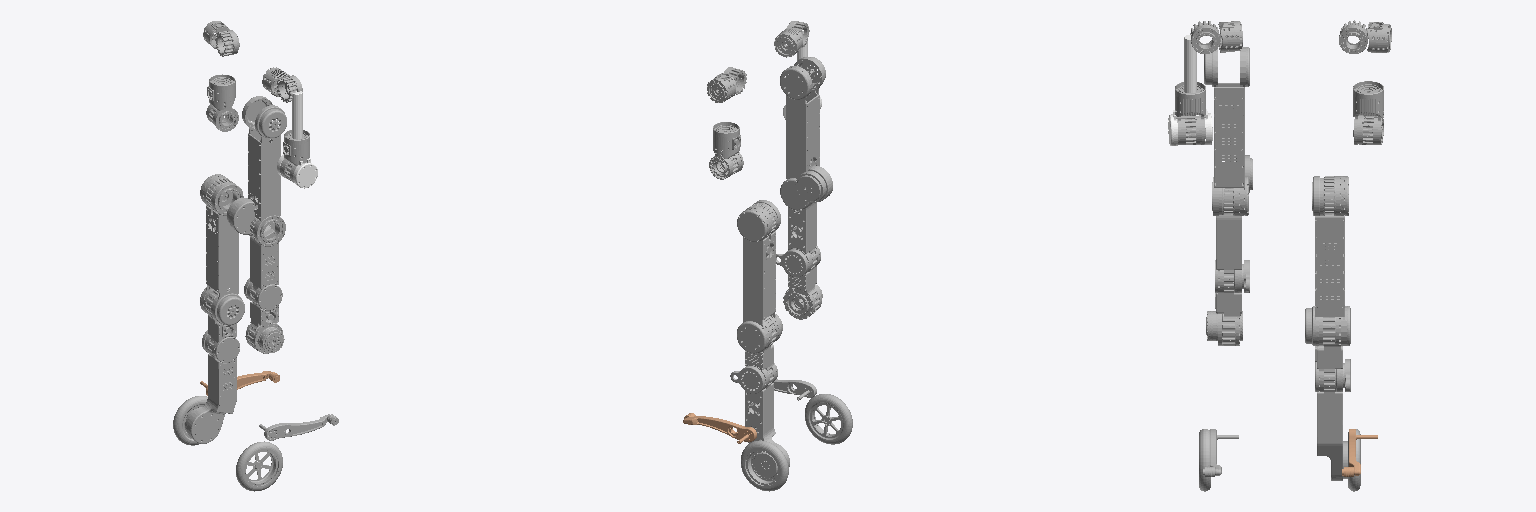
--- What the picture shows (computed from the rendered views, not written in the file) ---
3 views of the same robot in one strip: view 1: azimuth 30°, elevation 25°; view 2: azimuth 150°, elevation 25°; view 3: azimuth 270°, elevation 25° (orthographic).
Robot: ren — 20 links, 19 joints (19 revolute); root link base_link; default pose: all joints at 0.
Links seen in each view (by area): view 1: RL2, LL2, RL3, LL3, RW, LA3, RA4, RA3, RA1, LA1, RL4, LW; view 2: LL2, RL3, RL2, LL3, RW, LA3, LW, LA1, LL4, RA1, RL4; view 3: LL2, RL2, LL3, RL3, LA3, RA3, LA1, RA1, RA4, RW, LL4, RL4.
Link boxes in pixels (bbox=[...]): RL2: bbox=[242, 96, 286, 246]; LL2: bbox=[200, 174, 244, 324]; RL3: bbox=[227, 198, 284, 353]; LL3: bbox=[185, 288, 239, 443]; RW: bbox=[236, 441, 282, 491]; LA3: bbox=[206, 74, 238, 131]; RA4: bbox=[277, 91, 317, 188]; RA3: bbox=[280, 130, 309, 182]; RA1: bbox=[262, 67, 302, 102]; LA1: bbox=[203, 21, 239, 56]; RL4: bbox=[259, 414, 338, 440]; LW: bbox=[173, 396, 207, 445]; LL2: bbox=[737, 200, 782, 353]; RL3: bbox=[776, 165, 832, 319]; RL2: bbox=[780, 57, 825, 210]; LL3: bbox=[730, 316, 789, 479]; RW: bbox=[805, 394, 852, 444]; LA3: bbox=[709, 122, 743, 179]; LW: bbox=[741, 440, 788, 491]; LA1: bbox=[707, 67, 746, 102]; LL4: bbox=[683, 413, 756, 443]; RA1: bbox=[774, 21, 809, 57]; RL4: bbox=[773, 379, 816, 400]; LL2: bbox=[1305, 176, 1350, 345]; RL2: bbox=[1204, 47, 1249, 215]; LL3: bbox=[1315, 317, 1350, 480]; RL3: bbox=[1206, 155, 1252, 345]; LA3: bbox=[1353, 81, 1383, 144]; RA3: bbox=[1175, 82, 1205, 144]; LA1: bbox=[1339, 20, 1391, 53]; RA1: bbox=[1190, 21, 1242, 53]; RA4: bbox=[1168, 35, 1212, 145]; RW: bbox=[1199, 429, 1210, 491]; LL4: bbox=[1342, 429, 1377, 476]; RL4: bbox=[1203, 429, 1238, 476].
Bounding box of the posed robot: 0.3339 × 0.5315 × 1.26 m (x, y, z).
13 mesh visuals loaded from 20 distinct referenced files (13 binary STL); not drawn: 7 (reference not matched to a file when rendering).

robot.urdf — ren:
<?xml version="1.0" encoding="utf-8"?>
<!-- This URDF was automatically created by SolidWorks to URDF Exporter! Originally created by Stephen Brawner ([email redacted]) 
     Commit Version: 1.5.1-0-g916b5db  Build Version: 1.5.7152.31018
     For more information, please see http://wiki.ros.org/sw_urdf_exporter -->
<robot
  name="ren">

<mujoco>
    <compiler meshdir="meshes/mahruW" balanceinertia="true" strippath="false" fusestatic="false" />
    <option collision="predefined" cone="elliptic" jacobian="sparse" tolerance="1e-6" iterations="30" solver="CG" timestep="0.001"/>
</mujoco>

  <link
    name="base_link">
    <inertial>
      <origin
        xyz="-0.00293975992938375 1.323977515037E-09 -0.0693447638857504"
        rpy="0 0 0" />
      <mass
        value="0.663335054526636" />
      <inertia
        ixx="0.00122747507994997"
        ixy="-2.04639686858241E-11"
        ixz="9.0516144274473E-07"
        iyy="0.000481685162313589"
        iyz="-1.72311841232422E-12"
        izz="0.00115816037794915" />
    </inertial>
    <visual>
      <origin
        xyz="0 0 0"
        rpy="0 0 0" />
      <geometry>
        <mesh
          filename="base_link.STL" />
      </geometry>
      <material
        name="">
        <color
          rgba="0.792156862745098 0.819607843137255 0.933333333333333 1" />
      </material>
    </visual>
    <collision>
      <origin
        xyz="0 0 0"
        rpy="0 0 0" />
      <geometry>
        <mesh
          filename="base_link.STL" />
      </geometry>
    </collision>
  </link>
  <link
    name="TOP">
    <inertial>
      <origin
        xyz="-0.0489970149555728 0.000594579730228066 -0.0674765679410225"
        rpy="0 0 0" />
      <mass
        value="12.7217148493639" />
      <inertia
        ixx="0.0571970250285731"
        ixy="1.5404540110363E-06"
        ixz="-0.00174140735722603"
        iyy="0.048396512484348"
        iyz="-8.08878667518146E-05"
        izz="3.568685166830395" />
    </inertial>
    <visual>
      <origin
        xyz="0 0 0"
        rpy="0 0 0" />
      <geometry>
        <mesh
          filename="TOP.STL" />
      </geometry>
      <material
        name="">
        <color
          rgba="0.752941176470588 0.752941176470588 0.752941176470588 1" />
      </material>
    </visual>
    <collision>
      <origin
        xyz="0 0 0"
        rpy="0 0 0" />
      <geometry>
        <mesh
          filename="TOP.STL" />
      </geometry>
    </collision>
  </link>
  <joint
    name="TOPJ"
    type="revolute">
    <origin
      xyz="0 0 0.35639"
      rpy="0 0 0" />
    <parent
      link="base_link" />
    <child
      link="TOP" />
    <axis
      xyz="0 0 -1" />
    <limit
      lower="-3.14"
      upper="3.14"
      effort="200"
      velocity="10" />
    <dynamics
      damping="0.1"
      friction="0.1" />
  </joint>
  <link
    name="LA1">
    <inertial>
      <origin
        xyz="-0.00218055797602101 0.000646181874853546 0.0905734248661735"
        rpy="0 0 0" />
      <mass
        value="0.760412618087937" />
      <inertia
        ixx="0.000390359500041586"
        ixy="3.2863946752769E-07"
        ixz="-3.1518165182853E-06"
        iyy="0.000367514649858188"
        iyz="-1.96497269983667E-07"
        izz="0.582121183289539268" />
    </inertial>
    <visual>
      <origin
        xyz="0 0 0"
        rpy="0 0 0" />
      <geometry>
        <mesh
          filename="LA1.STL" />
      </geometry>
      <material
        name="">
        <color
          rgba="0.752941176470588 0.752941176470588 0.752941176470588 1" />
      </material>
    </visual>
    <collision>
      <origin
        xyz="0 0 0"
        rpy="0 0 0" />
      <geometry>
        <mesh
          filename="LA1.STL" />
      </geometry>
    </collision>
  </link>
  <joint
    name="LAJ1"
    type="revolute">
    <origin
      xyz="0.047556 0.17703 0"
      rpy="1.5708 0 -0.087266" />
    <parent
      link="TOP" />
    <child
      link="LA1" />
    <axis
      xyz="0 0 -1" />
    <limit
      lower="-3.14"
      upper="3.14"
      effort="200"
      velocity="10" />
    <dynamics
      damping="0.1"
      friction="0.1" />
  </joint>
  <link
    name="LA2">
    <inertial>
      <origin
        xyz="-0.00839423577620932 0.00464647595823475 -0.00212454559938208"
        rpy="0 0 0" />
      <mass
        value="0.595912232874906" />
      <inertia
        ixx="0.000239358522293934"
        ixy="3.41134487356889E-05"
        ixz="1.1187652188633E-05"
        iyy="0.000261249301376545"
        iyz="-7.66827158404053E-06"
        izz="0.5821416205735224002" />
    </inertial>
    <visual>
      <origin
        xyz="0 0 0"
        rpy="0 0 0" />
      <geometry>
        <mesh
          filename="LA2.STL" />
      </geometry>
      <material
        name="">
        <color
          rgba="0.792156862745098 0.819607843137255 0.933333333333333 1" />
      </material>
    </visual>
    <collision>
      <origin
        xyz="0 0 0"
        rpy="0 0 0" />
      <geometry>
        <mesh
          filename="LA2.STL" />
      </geometry>
    </collision>
  </link>
  <joint
    name="LAJ2"
    type="revolute">
    <origin
      xyz="0 0 0"
      rpy="3.1416 -1.5708 0" />
    <parent
      link="LA1" />
    <child
      link="LA2" />
    <axis
      xyz="0 0 1" />
    <limit
      lower="-3.14"
      upper="3.14"
      effort="200"
      velocity="10" />
    <dynamics
      damping="0.1"
      friction="0.1" />
  </joint>
  <link
    name="LA3">
    <inertial>
      <origin
        xyz="-0.000338047198394732 -0.00117372685442382 0.0101820386038939"
        rpy="0 0 0" />
      <mass
        value="0.919977004364016" />
      <inertia
        ixx="0.000384365944068182"
        ixy="1.24745700673248E-08"
        ixz="2.62066961124455E-06"
        iyy="0.000415370591268254"
        iyz="-2.60019896240997E-06"
        izz="0.227660402007298747" />
    </inertial>
    <visual>
      <origin
        xyz="0 0 0"
        rpy="0 0 0" />
      <geometry>
        <mesh
          filename="LA3.STL" />
      </geometry>
      <material
        name="">
        <color
          rgba="0.752941176470588 0.752941176470588 0.752941176470588 1" />
      </material>
    </visual>
    <collision>
      <origin
        xyz="0 0 0"
        rpy="0 0 0" />
      <geometry>
        <mesh
          filename="LA3.STL" />
      </geometry>
    </collision>
  </link>
  <joint
    name="LAJ3"
    type="revolute">
    <origin
      xyz="-0.035 0.12115 0.00305"
      rpy="-1.5708 -1.5708 0" />
    <parent
      link="LA2" />
    <child
      link="LA3" />
    <axis
      xyz="0 0 -1" />
    <limit
      lower="-3.14"
      upper="3.14"
      effort="200"
      velocity="10" />
    <dynamics
      damping="0.1"
      friction="0.1" />
  </joint>
  <link
    name="LA4">
    <inertial>
      <origin
        xyz="-2.90770331529758E-05 -0.0332366120196396 0.00190144210670445"
        rpy="0 0 0" />
      <mass
        value="0.663638353774949" />
      <inertia
        ixx="0.000678786000372676"
        ixy="1.20301928448747E-07"
        ixz="-1.24075700829241E-09"
        iyy="0.000202806989784145"
        iyz="1.55083794985079E-06"
        izz="0.228000695806403115" />
    </inertial>
    <visual>
      <origin
        xyz="0 0 0"
        rpy="0 0 0" />
      <geometry>
        <mesh
          filename="LA4.STL" />
      </geometry>
      <material
        name="">
        <color
          rgba="1 1 1 1" />
      </material>
    </visual>
    <collision>
      <origin
        xyz="0 0 0"
        rpy="0 0 0" />
      <geometry>
        <mesh
          filename="LA4.STL" />
      </geometry>
    </collision>
  </link>
  <joint
    name="LAJ4"
    type="revolute">
    <origin
      xyz="3E-05 0.0003 0.11885"
      rpy="-1.5708 0 0" />
    <parent
      link="LA3" />
    <child
      link="LA4" />
    <axis
      xyz="0 0 1" />
    <limit
      lower="-3.14"
      upper="3.14"
      effort="200"
      velocity="10" />
    <dynamics
      damping="0.1"
      friction="0.1" />
  </joint>
  <link
    name="RA1">
    <inertial>
      <origin
        xyz="-0.00218056068894528 0.000646181890037345 -0.0905734249169372"
        rpy="0 0 0" />
      <mass
        value="0.760412619008332" />
      <inertia
        ixx="0.000390359500413006"
        ixy="-3.28640438379882E-07"
        ixz="3.11708799729397E-06"
        iyy="0.000367514649968398"
        iyz="1.96474091388662E-07"
        izz="0.58212118329000531" />
    </inertial>
    <visual>
      <origin
        xyz="0 0 0"
        rpy="0 0 0" />
      <geometry>
        <mesh
          filename="RA1.STL" />
      </geometry>
      <material
        name="">
        <color
          rgba="0.752941176470588 0.752941176470588 0.752941176470588 1" />
      </material>
    </visual>
    <collision>
      <origin
        xyz="0 0 0"
        rpy="0 0 0" />
      <geometry>
        <mesh
          filename="RA1.STL" />
      </geometry>
    </collision>
  </link>
  <joint
    name="RAJ1"
    type="revolute">
    <origin
      xyz="0.047556 -0.17703 0"
      rpy="1.5708 0 0.087266" />
    <parent
      link="TOP" />
    <child
      link="RA1" />
    <axis
      xyz="0 0 1" />
    <limit
      lower="0"
      upper="0"
      effort="0"
      velocity="0" />
  </joint>
  <link
    name="RA2">
    <inertial>
      <origin
        xyz="0.00839423578037551 0.00464648863592744 -0.002074959973339"
        rpy="0 0 0" />
      <mass
        value="0.595912232934406" />
      <inertia
        ixx="0.000239358522195328"
        ixy="-3.43540353634177E-05"
        ixz="-1.11868683878686E-05"
        iyy="0.000261249301151817"
        iyz="-7.66855758436119E-06"
        izz="0.582116205735061359" />
    </inertial>
    <visual>
      <origin
        xyz="0 0 0"
        rpy="0 0 0" />
      <geometry>
        <mesh
          filename="RA2.STL" />
      </geometry>
      <material
        name="">
        <color
          rgba="0.792156862745098 0.819607843137255 0.933333333333333 1" />
      </material>
    </visual>
    <collision>
      <origin
        xyz="0 0 0"
        rpy="0 0 0" />
      <geometry>
        <mesh
          filename="RA2.STL" />
      </geometry>
    </collision>
  </link>
  <joint
    name="RAJ2"
    type="revolute">
    <origin
      xyz="0 0 0"
      rpy="3.1416 -1.5708 0" />
    <parent
      link="RA1" />
    <child
      link="RA2" />
    <axis
      xyz="0 0 1" />
    <limit
      lower="0"
      upper="0"
      effort="0"
      velocity="0" />
  </joint>
  <link
    name="RA3">
    <inertial>
      <origin
        xyz="-0.000338047158253946 -0.00117372803390137 0.0101820365493139"
        rpy="0 0 0" />
      <mass
        value="0.919976972866004" />
      <inertia
        ixx="0.000384365950577081"
        ixy="1.24775351009354E-08"
        ixz="2.62065910689626E-06"
        iyy="0.000415370582221788"
        iyz="-2.6001573011258E-06"
        izz="0.227660402014748892" />
    </inertial>
    <visual>
      <origin
        xyz="0 0 0"
        rpy="0 0 0" />
      <geometry>
        <mesh
          filename="RA3.STL" />
      </geometry>
      <material
        name="">
        <color
          rgba="0.752941176470588 0.752941176470588 0.752941176470588 1" />
      </material>
    </visual>
    <collision>
      <origin
        xyz="0 0 0"
        rpy="0 0 0" />
      <geometry>
        <mesh
          filename="RA3.STL" />
      </geometry>
    </collision>
  </link>
  <joint
    name="RAJ3"
    type="revolute">
    <origin
      xyz="0.035 0.12115 0.00305"
      rpy="-1.5708 -1.5708 0" />
    <parent
      link="RA2" />
    <child
      link="RA3" />
    <axis
      xyz="0 0 -1" />
    <limit
      lower="0"
      upper="0"
      effort="0"
      velocity="0" />
  </joint>
  <link
    name="RA4">
    <inertial>
      <origin
        xyz="-2.90769992044304E-05 -0.0332366120022278 0.00190144210830098"
        rpy="0 0 0" />
      <mass
        value="0.663638354184862" />
      <inertia
        ixx="0.000678786000525314"
        ixy="1.20301937787547E-07"
        ixz="-1.24061784536992E-09"
        iyy="0.000202806990029451"
        iyz="1.55083794780911E-06"
        izz="0.228000695806794769" />
    </inertial>
    <visual>
      <origin
        xyz="0 0 0"
        rpy="0 0 0" />
      <geometry>
        <mesh
          filename="RA4.STL" />
      </geometry>
      <material
        name="">
        <color
          rgba="1 1 1 1" />
      </material>
    </visual>
    <collision>
      <origin
        xyz="0 0 0"
        rpy="0 0 0" />
      <geometry>
        <mesh
          filename="RA4.STL" />
      </geometry>
    </collision>
  </link>
  <joint
    name="RAJ4"
    type="revolute">
    <origin
      xyz="3E-05 0.0003 0.11885"
      rpy="-1.5708 0 0" />
    <parent
      link="RA3" />
    <child
      link="RA4" />
    <axis
      xyz="0 0 -1" />
    <limit
      lower="0"
      upper="0"
      effort="0"
      velocity="0" />
  </joint>
  <link
    name="RL1">
    <inertial>
      <origin
        xyz="0.0277301029541595 -0.240185029007825 0.0201778404288667"
        rpy="0 0 0" />
      <mass
        value="1.39472094177768" />
      <inertia
        ixx="0.000783466022998035"
        ixy="-1.05389756522326E-07"
        ixz="1.4837861679612E-05"
        iyy="0.00070334848018107"
        iyz="3.10600669490263E-07"
        izz="2.274545636953322435" />
    </inertial>
    <visual>
      <origin
        xyz="0 0 0"
        rpy="0 0 0" />
      <geometry>
        <mesh
          filename="RL1.STL" />
      </geometry>
      <material
        name="">
        <color
          rgba="0.752941176470588 0.752941176470588 0.752941176470588 1" />
      </material>
    </visual>
    <collision>
      <origin
        xyz="0 0 0"
        rpy="0 0 0" />
      <geometry>
        <mesh
          filename="RL1.STL" />
      </geometry>
    </collision>
  </link>
  <joint
    name="RLJ1"
    type="revolute">
    <origin
      xyz="0 -0.0405 -0.083614"
      rpy="-1.5708 0 -1.5708" />
    <parent
      link="base_link" />
    <child
      link="RL1" />
    <axis
      xyz="0 0 -1" />
    <limit
      lower="0"
      upper="0"
      effort="0"
      velocity="0" />
  </joint>
  <link
    name="RL2">
    <inertial>
      <origin
        xyz="0.00010671712181242 -0.0839727349122329 -0.0181510936296701"
        rpy="0 0 0" />
      <mass
        value="2.22253145416977" />
      <inertia
        ixx="0.00973394164705822"
        ixy="-9.84097226630028E-07"
        ixz="9.09129684459083E-06"
        iyy="0.00125876832868157"
        iyz="-8.88597753309385E-06"
        izz="3.9041131739084594" />
    </inertial>
    <visual>
      <origin
        xyz="0 0 0"
        rpy="0 0 0" />
      <geometry>
        <mesh
          filename="RL2.STL" />
      </geometry>
      <material
        name="">
        <color
          rgba="0.752941176470588 0.752941176470588 0.752941176470588 1" />
      </material>
    </visual>
    <collision>
      <origin
        xyz="0 0 0"
        rpy="0 0 0" />
      <geometry>
        <mesh
          filename="RL2.STL" />
      </geometry>
    </collision>
  </link>
  <joint
    name="RLJ2"
    type="revolute">
    <origin
      xyz="0.07925 0 0"
      rpy="3.141592 -1.5708 0" />
    <parent
      link="RL1" />
    <child
      link="RL2" />
    <axis
      xyz="0 0 -1" />
    <limit
      lower="0"
      upper="0"
      effort="0"
      velocity="0" />
  </joint>
  <link
    name="RL3">
    <inertial>
      <origin
        xyz="-0.0043098957643965 -0.139812599504077 0.0120939554062656"
        rpy="0 0 0" />
      <mass
        value="2.32413808054881" />
      <inertia
        ixx="0.0183327755074094"
        ixy="-0.00137254811335771"
        ixz="8.14042506352202E-05"
        iyy="0.00177722419784693"
        iyz="0.000819553167867784"
        izz="3.9135176221716337" />
    </inertial>
    <visual>
      <origin
        xyz="0 0 0"
        rpy="0 0 0" />
      <geometry>
        <mesh
          filename="RL3.STL" />
      </geometry>
      <material
        name="">
        <color
          rgba="0.752941176470588 0.752941176470588 0.752941176470588 1" />
      </material>
    </visual>
    <collision>
      <origin
        xyz="0 0 0"
        rpy="0 0 0" />
      <geometry>
        <mesh
          filename="RL3.STL" />
      </geometry>
    </collision>
  </link>
  <joint
    name="RLJ3"
    type="revolute">
    <origin
      xyz="0 -0.34 0"
      rpy="0 0 0" />
    <parent
      link="RL2" />
    <child
      link="RL3" />
    <axis
      xyz="0 0 -1" />
    <limit
      lower="0"
      upper="0"
      effort="0"
      velocity="0" />
  </joint>
  <link
    name="RL4">
    <inertial>
      <origin
        xyz="0.0457248585468498 0.0172073184306195 0.00788432762882399"
        rpy="0 0 0" />
      <mass
        value="0.560109698923052" />
      <inertia
        ixx="0.000821586975683291"
        ixy="0.000409960629590359"
        ixz="1.92867667750741E-05"
        iyy="0.000499896149783243"
        iyz="-1.91704092749729E-05"
        izz="1.4562851947385048" />
    </inertial>
    <visual>
      <origin
        xyz="0 0 0"
        rpy="0 0 0" />
      <geometry>
        <mesh
          filename="RL4.STL" />
      </geometry>
      <material
        name="">
        <color
          rgba="0.752941176470588 0.752941176470588 0.752941176470588 1" />
      </material>
    </visual>
    <collision>
      <origin
        xyz="0 0 0"
        rpy="0 0 0" />
      <geometry>
        <mesh
          filename="RL4.STL" />
      </geometry>
    </collision>
  </link>
  <joint
    name="RLJ4"
    type="revolute">
    <origin
      xyz="0 -0.292 0.04575"
      rpy="0 0 0" />
    <parent
      link="RL3" />
    <child
      link="RL4" />
    <axis
      xyz="0 0 1" />
    <limit
      lower="0"
      upper="0"
      effort="0"
      velocity="0" />
  </joint>
  <link
    name="RW">
    <inertial>
      <origin
        xyz="-3.13582492968215E-05 -2.36301357617874E-05 -0.00592704058953694"
        rpy="0 0 0" />
      <mass
        value="0.70265402062641" />
      <inertia
        ixx="0.000924713396596756"
        ixy="4.12208118984811E-07"
        ixz="-4.83145045225567E-07"
        iyy="0.000924476999044574"
        iyz="-3.64075905616755E-07"
        izz="0.00171836727830941" />
    </inertial>
    <visual>
      <origin
        xyz="0 0 0"
        rpy="0 0 0" />
      <geometry>
        <mesh
          filename="RW.STL" />
      </geometry>
      <material
        name="">
        <color
          rgba="0.752941176470588 0.752941176470588 0.752941176470588 1" />
      </material>
    </visual>
    <collision>
      <origin
        xyz="0 0 0"
        rpy="0 0 0" />
      <geometry>
        <mesh
          filename="RW.STL" />
      </geometry>
    </collision>
  </link>
  <joint
    name="RWJ"
    type="revolute">
    <origin
      xyz="-0.05 -0.375 0.05775"
      rpy="0 0 0" />
    <parent
      link="RL3" />
    <child
      link="RW" />
    <axis
      xyz="0 0 -1" />
    <limit
      lower="0"
      upper="0"
      effort="0"
      velocity="0" />
  </joint>
  <link
    name="LL1">
    <inertial>
      <origin
        xyz="-0.00522958963442879 -0.000129002514071855 -0.000532259027126124"
        rpy="0 0 0" />
      <mass
        value="0.634308322769342" />
      <inertia
        ixx="0.000363058150955376"
        ixy="1.18979593135409E-07"
        ixz="-9.09188180730931E-06"
        iyy="0.000335833830212672"
        iyz="-3.3465256334033E-10"
        izz="2.273554502034946778" />
    </inertial>
    <visual>
      <origin
        xyz="0 0 0"
        rpy="0 0 0" />
      <geometry>
        <mesh
          filename="LL1.STL" />
      </geometry>
      <material
        name="">
        <color
          rgba="0.752941176470588 0.752941176470588 0.752941176470588 1" />
      </material>
    </visual>
    <collision>
      <origin
        xyz="0 0 0"
        rpy="0 0 0" />
      <geometry>
        <mesh
          filename="LL1.STL" />
      </geometry>
    </collision>
  </link>
  <joint
    name="LLJ1"
    type="revolute">
    <origin
      xyz="0 0.0405 -0.083614"
      rpy="-1.5708 0 -1.5708" />
    <parent
      link="base_link" />
    <child
      link="LL1" />
    <axis
      xyz="0 0 -1" />
    <limit
      lower="0"
      upper="0"
      effort="0"
      velocity="0" />
  </joint>
  <link
    name="LL2">
    <inertial>
      <origin
        xyz="0.000361912912055841 -0.117601022708768 -0.00414202294261423"
        rpy="0 0 0" />
      <mass
        value="1.58822313140042" />
      <inertia
        ixx="0.00917943961211141"
        ixy="4.02102009829047E-07"
        ixz="1.55752455034906E-09"
        iyy="0.000922934498468899"
        iyz="7.40981952049394E-06"
        izz="3.91475011575750405" />
    </inertial>
    <visual>
      <origin
        xyz="0 0 0"
        rpy="0 0 0" />
      <geometry>
        <mesh
          filename="LL2.STL" />
      </geometry>
      <material
        name="">
        <color
          rgba="0.752941176470588 0.752941176470588 0.752941176470588 1" />
      </material>
    </visual>
    <collision>
      <origin
        xyz="0 0 0"
        rpy="0 0 0" />
      <geometry>
        <mesh
          filename="LL2.STL" />
      </geometry>
    </collision>
  </link>
  <joint
    name="LLJ2"
    type="revolute">
    <origin
      xyz="-0.07925 0 0"
      rpy="3.141592 -1.5708 0" />
    <parent
      link="LL1" />
    <child
      link="LL2" />
    <axis
      xyz="0 0 1" />
    <limit
      lower="0"
      upper="0"
      effort="0"
      velocity="0" />
  </joint>
  <link
    name="LL3">
    <inertial>
      <origin
        xyz="-0.00430925716268378 -0.139812505773934 -0.0120939621479553"
        rpy="0 0 0" />
      <mass
        value="2.32413968759875" />
      <inertia
        ixx="0.0183328374629338"
        ixy="-0.00137251448569154"
        ixz="-8.14173653019908E-05"
        iyy="0.00177722468458668"
        iyz="-0.000819557468678058"
        izz="3.9135176849599387" />
    </inertial>
    <visual>
      <origin
        xyz="0 0 0"
        rpy="0 0 0" />
      <geometry>
        <mesh
          filename="LL3.STL" />
      </geometry>
      <material
        name="">
        <color
          rgba="0.752941176470588 0.752941176470588 0.752941176470588 1" />
      </material>
    </visual>
    <collision>
      <origin
        xyz="0 0 0"
        rpy="0 0 0" />
      <geometry>
        <mesh
          filename="LL3.STL" />
      </geometry>
    </collision>
  </link>
  <joint
    name="LLJ3"
    type="revolute">
    <origin
      xyz="0 -0.34 0"
      rpy="0 0 0" />
    <parent
      link="LL2" />
    <child
      link="LL3" />
    <axis
      xyz="0 0 1" />
    <limit
      lower="0"
      upper="0"
      effort="0"
      velocity="0" />
  </joint>
  <link
    name="LL4">
    <inertial>
      <origin
        xyz="0.0457383237923628 0.0172204246115848 -0.00788432826387828"
        rpy="0 0 0" />
      <mass
        value="0.560109884458588" />
      <inertia
        ixx="0.000821350552483379"
        ixy="0.000409975935601804"
        ixz="-1.92922738682847E-05"
        iyy="0.000500133611235971"
        iyz="1.91647623119208E-05"
        izz="1.4562851957558175" />
    </inertial>
    <visual>
      <origin
        xyz="0 0 0"
        rpy="0 0 0" />
      <geometry>
        <mesh
          filename="LL4.STL" />
      </geometry>
      <material
        name="">
        <color
          rgba="0.854901960784314 0.674509803921569 0.541176470588235 1" />
      </material>
    </visual>
    <collision>
      <origin
        xyz="0 0 0"
        rpy="0 0 0" />
      <geometry>
        <mesh
          filename="LL4.STL" />
      </geometry>
    </collision>
  </link>
  <joint
    name="LLJ4"
    type="revolute">
    <origin
      xyz="0 -0.292 -0.04575"
      rpy="0 0 0" />
    <parent
      link="LL3" />
    <child
      link="LL4" />
    <axis
      xyz="0 0 -1" />
    <limit
      lower="0"
      upper="0"
      effort="0"
      velocity="0" />
  </joint>
  <link
    name="LW">
    <inertial>
      <origin
        xyz="-1.59704256713772E-05 -3.58701633528247E-05 0.00592704058953694"
        rpy="0 0 0" />
      <mass
        value="0.702654020626412" />
      <inertia
        ixx="0.000924308261318603"
        ixy="3.18675270155961E-07"
        ixz="2.46060676418637E-07"
        iyy="0.000924882134322732"
        iyz="5.52661327846715E-07"
        izz="0.00171836727830941" />
    </inertial>
    <visual>
      <origin
        xyz="0 0 0"
        rpy="0 0 0" />
      <geometry>
        <mesh
          filename="LW.STL" />
      </geometry>
      <material
        name="">
        <color
          rgba="0.752941176470588 0.752941176470588 0.752941176470588 1" />
      </material>
    </visual>
    <collision>
      <origin
        xyz="0 0 0"
        rpy="0 0 0" />
      <geometry>
        <mesh
          filename="LW.STL" />
      </geometry>
    </collision>
  </link>
  <joint
    name="LWJ"
    type="revolute">
    <origin
      xyz="-0.05 -0.375 -0.05775"
      rpy="0 0 0" />
    <parent
      link="LL3" />
    <child
      link="LW" />
    <axis
      xyz="0 0 1" />
    <limit
      lower="0"
      upper="0"
      effort="0"
      velocity="0" />
  </joint>
</robot>
